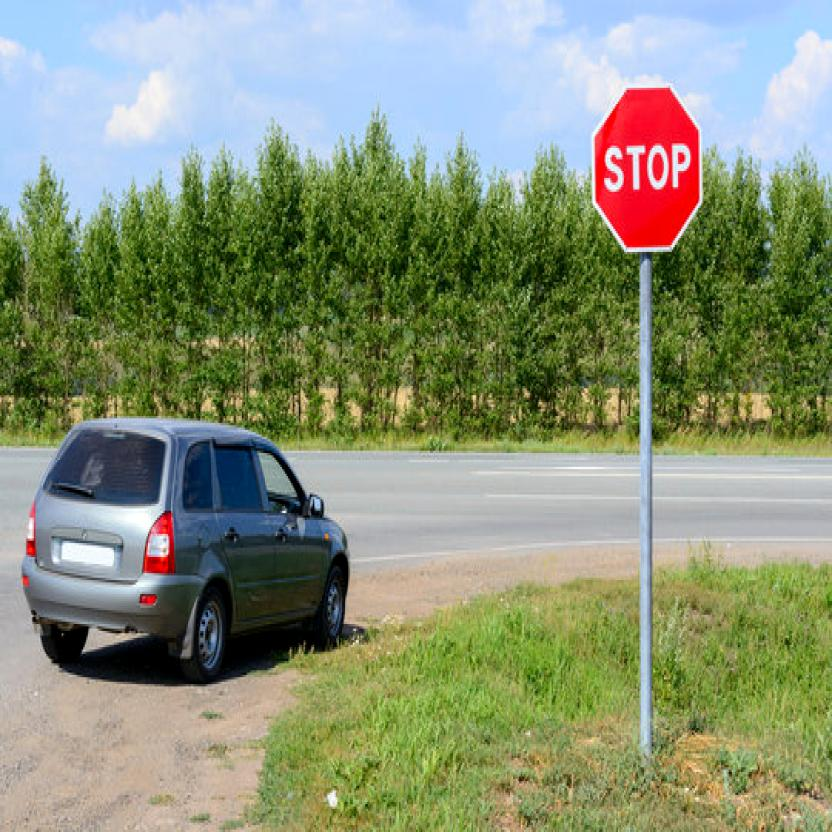Pole: (638, 255, 656, 752)
Sign: (591, 88, 703, 253)
